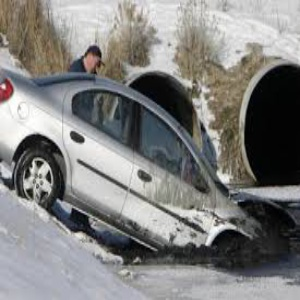door_scratch: (115, 170, 209, 251)
